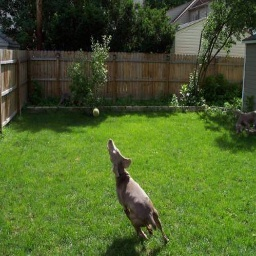dog: (104, 136, 169, 247)
